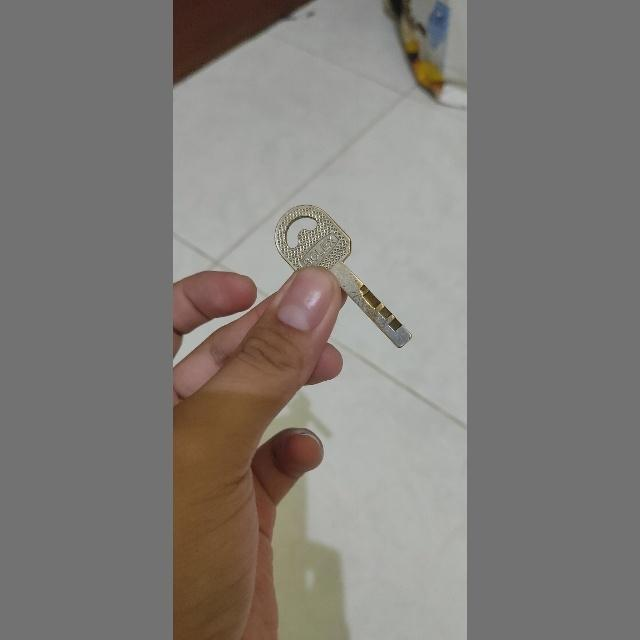Keys: (270, 190, 422, 352)
